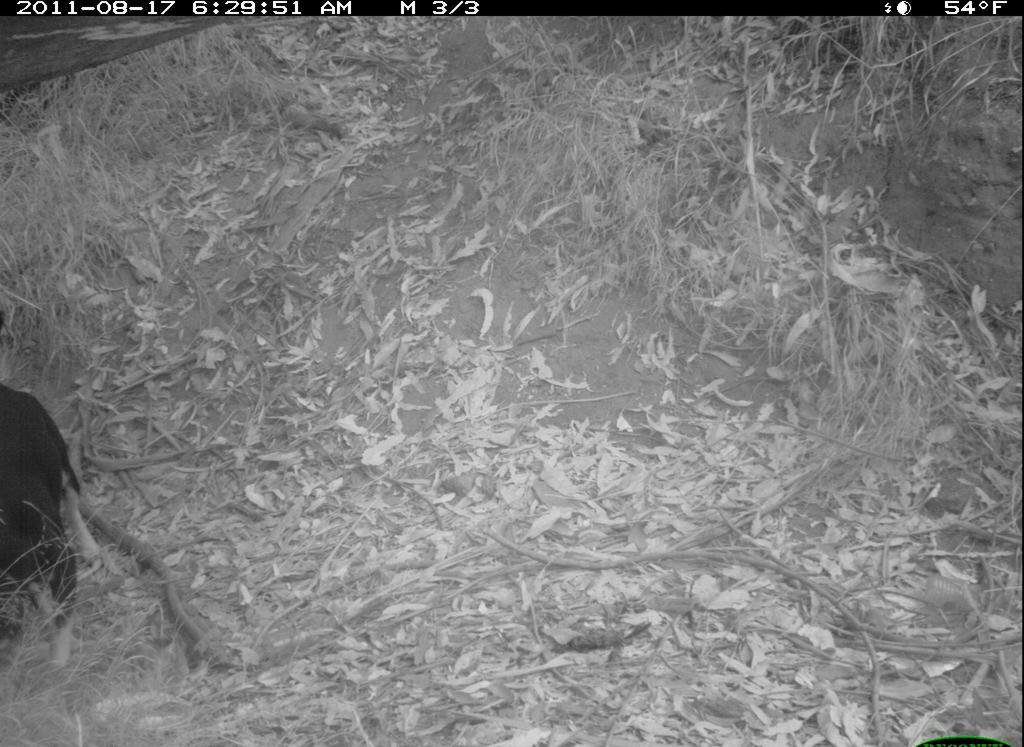dog: (4, 370, 109, 655)
